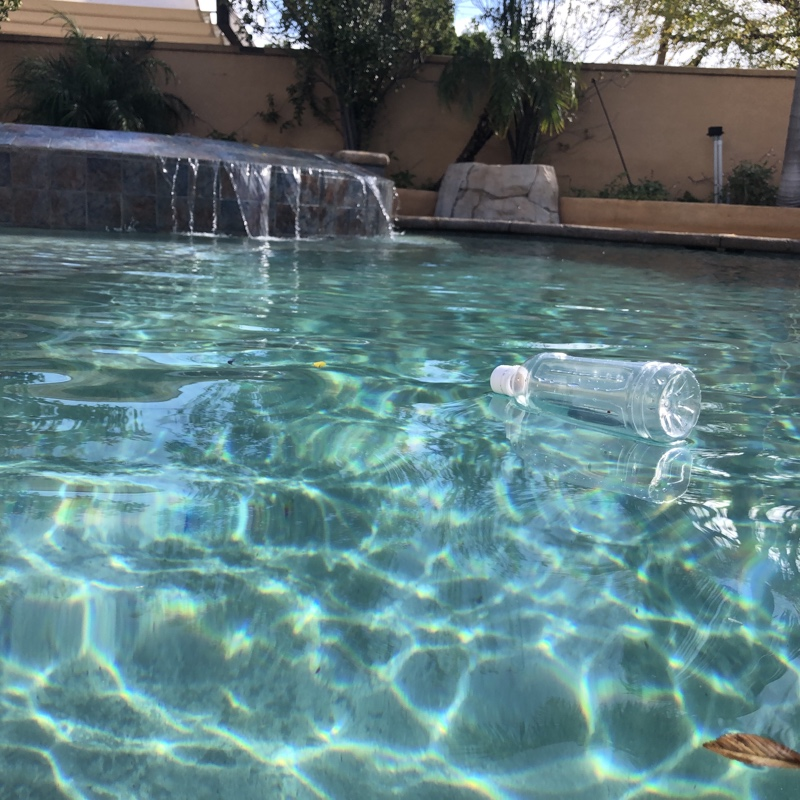Plastic Bottle: (486, 348, 704, 450)
